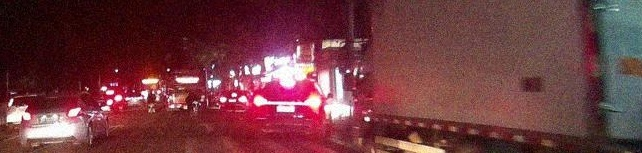L_light: (254, 97, 267, 106), (21, 111, 31, 120)
R_light: (304, 97, 320, 108), (66, 107, 81, 116)
T_light: (280, 80, 296, 86)
day-no: (50, 97, 61, 100)
night-no: (20, 92, 82, 152)
night-right: (253, 78, 322, 140)
